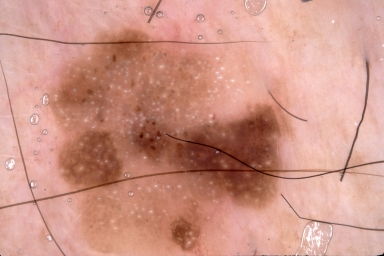seborrheic keratosis: (47, 13, 296, 247)
